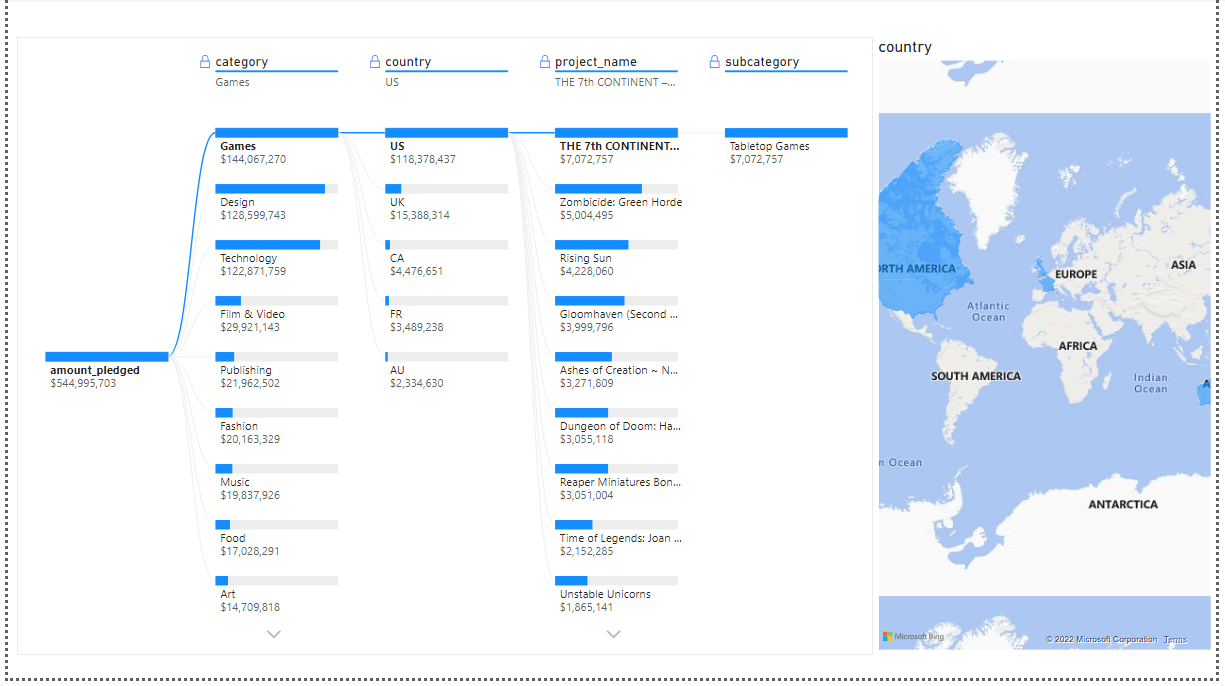

Layout of this report page (visuals, bound fields, positions):
{"tool":"powerbi","page":{"name":"Decomposition Tree","canvas":[1280,720],"ordinal":2},"visuals":[{"type":"decompositionTreeVisual","fields":{"Analyze":["Sum(kickstarter_projects.amount_pledged)"],"ExplainBy":["kickstarter_projects.category","kickstarter_projects.subcategory","kickstarter_projects.project_name","kickstarter_projects.country"]},"box":[9.5,0,732.7,696.2],"z":0},{"type":"filledMap","fields":{"Category":["kickstarter_projects.country"]},"box":[774,0,505.4,696.2],"z":1}]}

Visuals, with their boxes in screenshot pixels (x1, y1, x2, y2), scaled from the page's 1280x720 canvas onto the 1225x686 screenshot:
decompositionTreeVisual - Sum(kickstarter_projects.amount_pledged) x kickstarter_projects.category: [9, 0, 710, 663]
filledMap - kickstarter_projects.country: [741, 0, 1224, 663]
